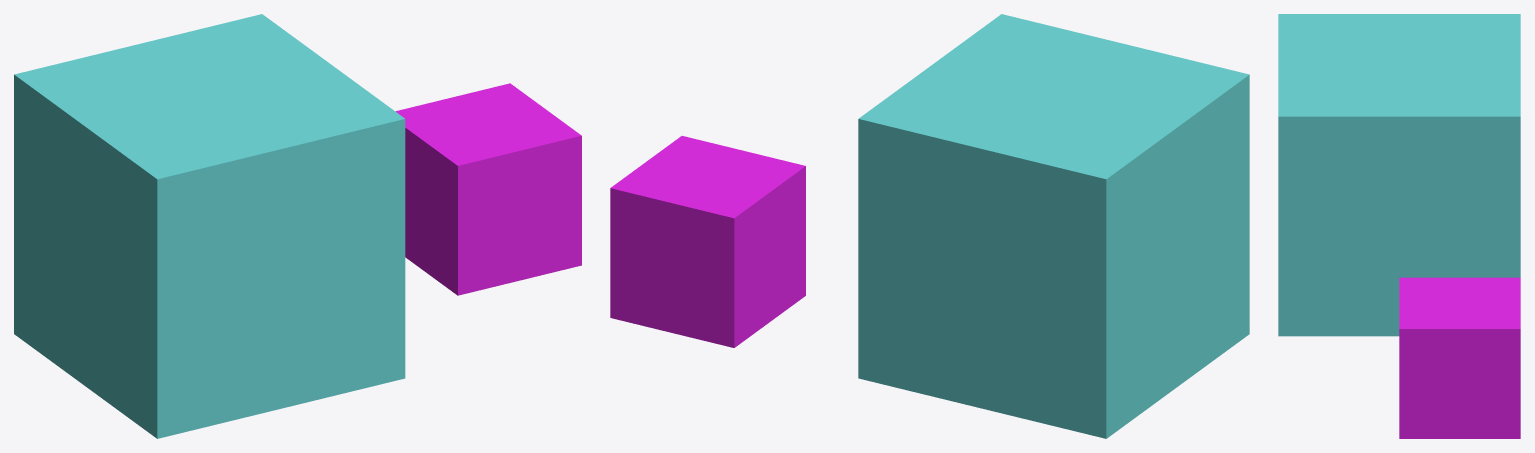
The picture shows the model from 3 angles, left to right: view 1: azimuth 30°, elevation 25°; view 2: azimuth 150°, elevation 25°; view 3: azimuth 270°, elevation 25°; orthographic projection. The views are drawn at different scales.
Bounding box in the file's own units: 0.004 × 0.002 × 0.002.
